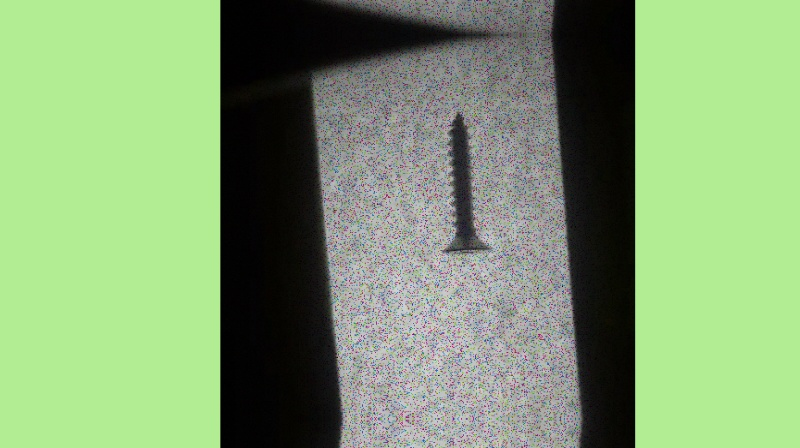S001: (441, 107, 491, 258)
